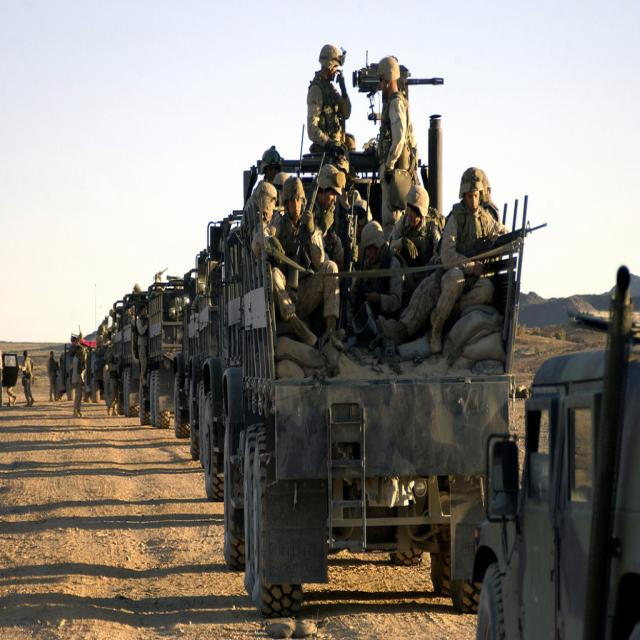Weapon: (349, 47, 477, 158), (432, 218, 560, 303), (291, 165, 336, 317), (285, 109, 320, 238), (345, 162, 371, 334), (146, 258, 171, 281)
